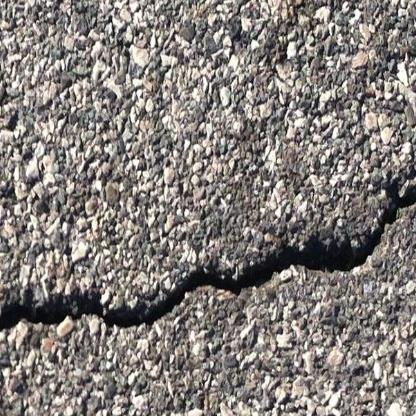Cracks: (0, 177, 416, 342)
